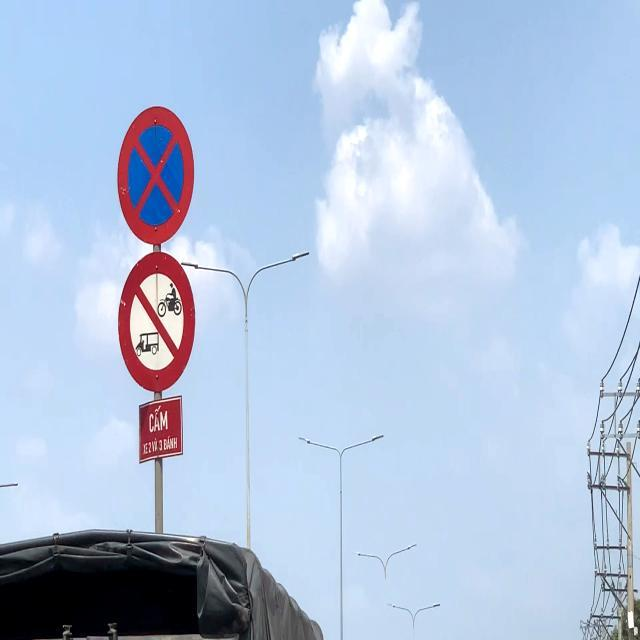P-104: (117, 252, 197, 388)
P-130: (117, 105, 193, 240)
